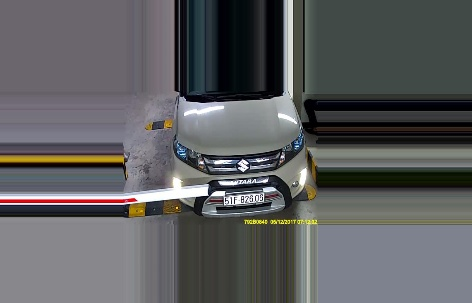plate: (223, 189, 263, 204)
